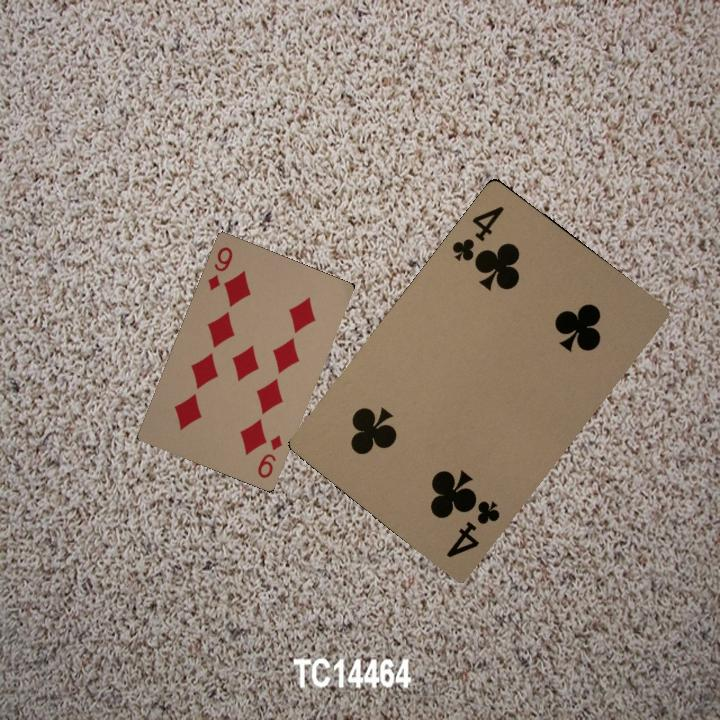4c: (446, 201, 507, 268), (442, 496, 503, 561)
9d: (253, 431, 285, 481), (204, 243, 235, 293)
